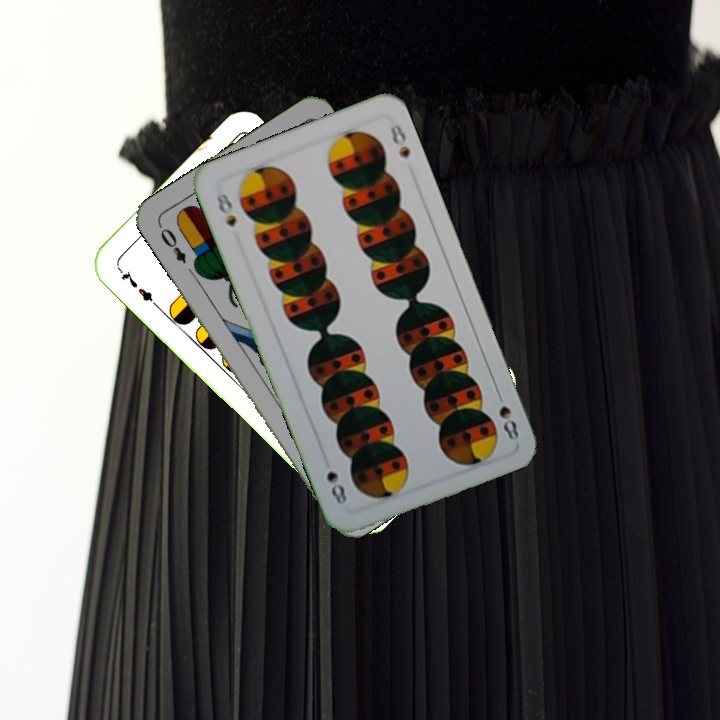E7: (113, 263, 160, 309)
EO: (154, 220, 189, 266)
S8: (491, 386, 522, 443), (212, 186, 239, 230)
